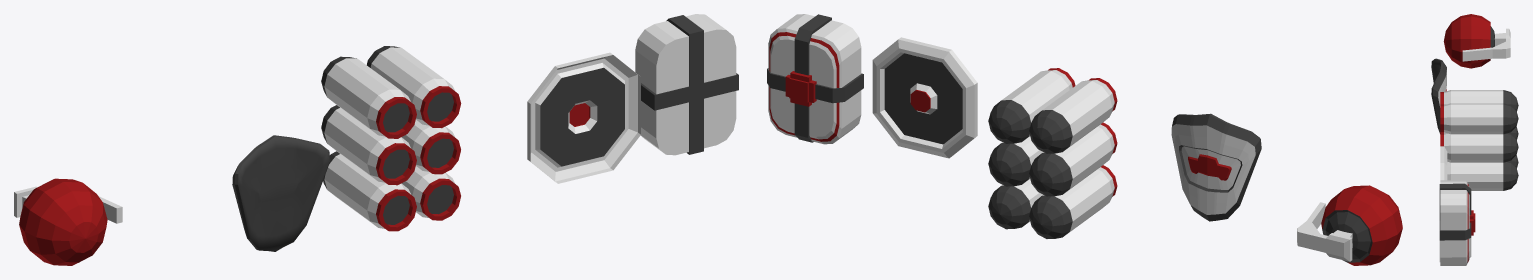
The model's file is TestingsAssets.fbx.
3 renders of one model, left to right at view 1: azimuth 30°, elevation 25°; view 2: azimuth 150°, elevation 25°; view 3: azimuth 270°, elevation 25°, orthographic. The views are drawn at different scales.
Parts seen in each view (by area): view 1: Munitions, Medikit, Socle, Shield, Grenade; view 2: Munitions, Medikit, Socle, Shield, Grenade; view 3: Munitions, Medikit, Grenade, Shield, Socle.
Part boxes in pixels (x1=…): Munitions: x1=321, y1=46, x2=461, y2=231; Medikit: x1=635, y1=14, x2=738, y2=155; Socle: x1=527, y1=52, x2=640, y2=183; Shield: x1=232, y1=135, x2=330, y2=251; Grenade: x1=14, y1=178, x2=122, y2=265; Munitions: x1=988, y1=68, x2=1117, y2=238; Medikit: x1=767, y1=14, x2=863, y2=144; Socle: x1=872, y1=37, x2=977, y2=158; Shield: x1=1171, y1=113, x2=1261, y2=221; Grenade: x1=1297, y1=185, x2=1402, y2=265; Munitions: x1=1440, y1=90, x2=1518, y2=190; Medikit: x1=1439, y1=180, x2=1475, y2=265; Grenade: x1=1443, y1=14, x2=1510, y2=68; Shield: x1=1431, y1=58, x2=1446, y2=133; Socle: x1=1440, y1=146, x2=1447, y2=180.
Size of the model in its own units: 623 by 120 by 111.
